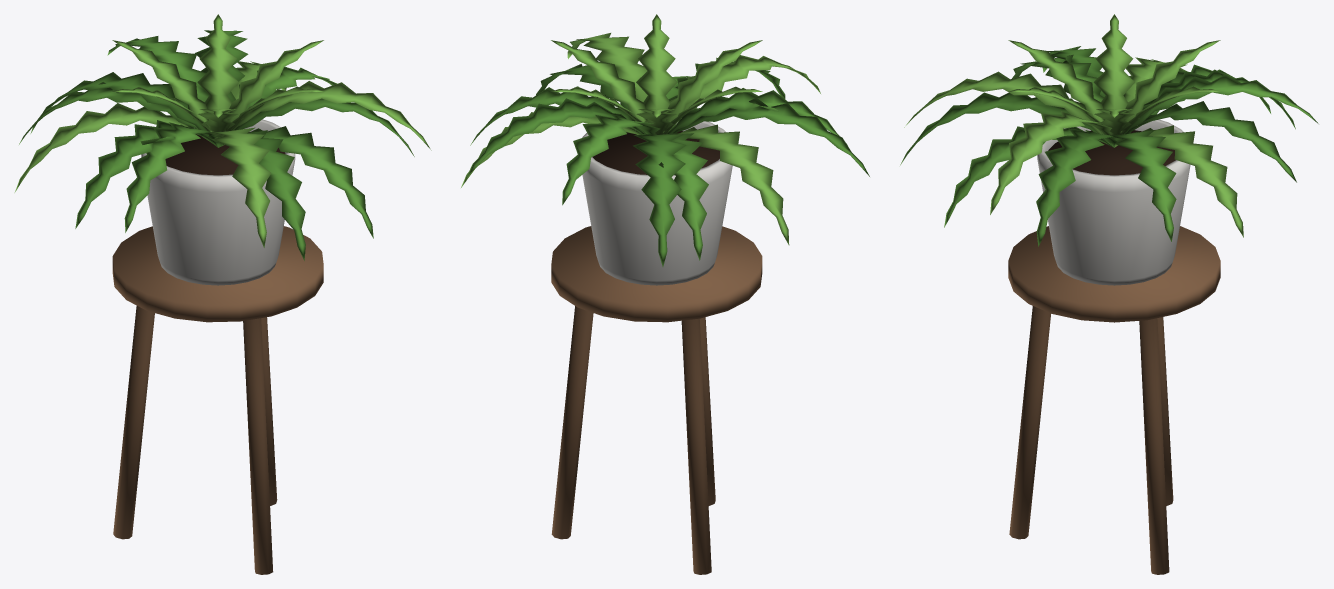
The model's file is bostonFern.glb.
3 views of the same model, side by side, from view 1: azimuth 30°, elevation 25°; view 2: azimuth 150°, elevation 25°; view 3: azimuth 270°, elevation 25° (orthographic).
Parts seen in each view (by area): view 1: bostonFern; view 2: bostonFern; view 3: bostonFern.
Boxes of the visible parts, x1,y1,x2,y2 form: bostonFern: [14, 14, 431, 574]; bostonFern: [461, 14, 869, 574]; bostonFern: [900, 14, 1318, 574].
Bounding box in the file's own units: 0.7343 × 0.9792 × 0.7923.
